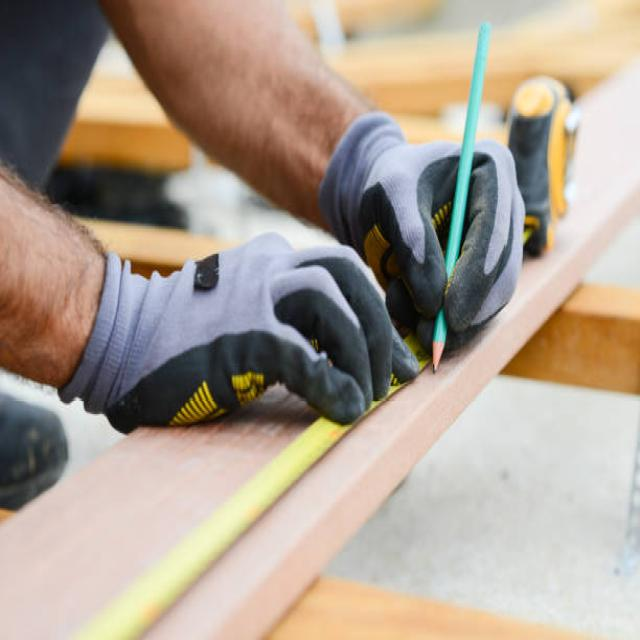gloves: (59, 228, 416, 436), (316, 111, 525, 345)
